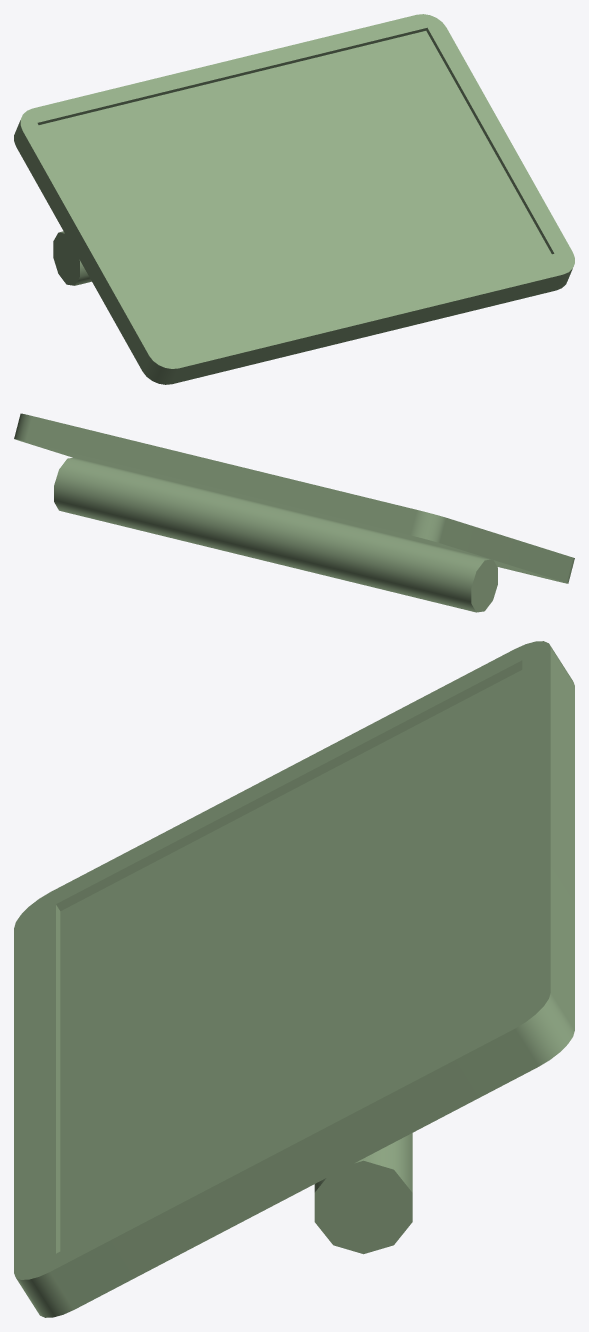
Rendered from Digital_Drawing_Table.fbx.
3 views of the same model, one above another, from view 1: azimuth 30°, elevation 25°; view 2: azimuth 150°, elevation 25°; view 3: azimuth 270°, elevation 25° (orthographic). The views are drawn at different scales.
Visible parts, largest first — view 1: Digital_Drawing_Table; view 2: Digital_Drawing_Table; view 3: Digital_Drawing_Table.
Part boxes in pixels (x1,y1,x2,y2): Digital_Drawing_Table: (14, 14, 574, 384); Digital_Drawing_Table: (14, 413, 574, 612); Digital_Drawing_Table: (14, 641, 574, 1317).
Size of the model in its own units: 68.65 by 26.87 by 42.86.
